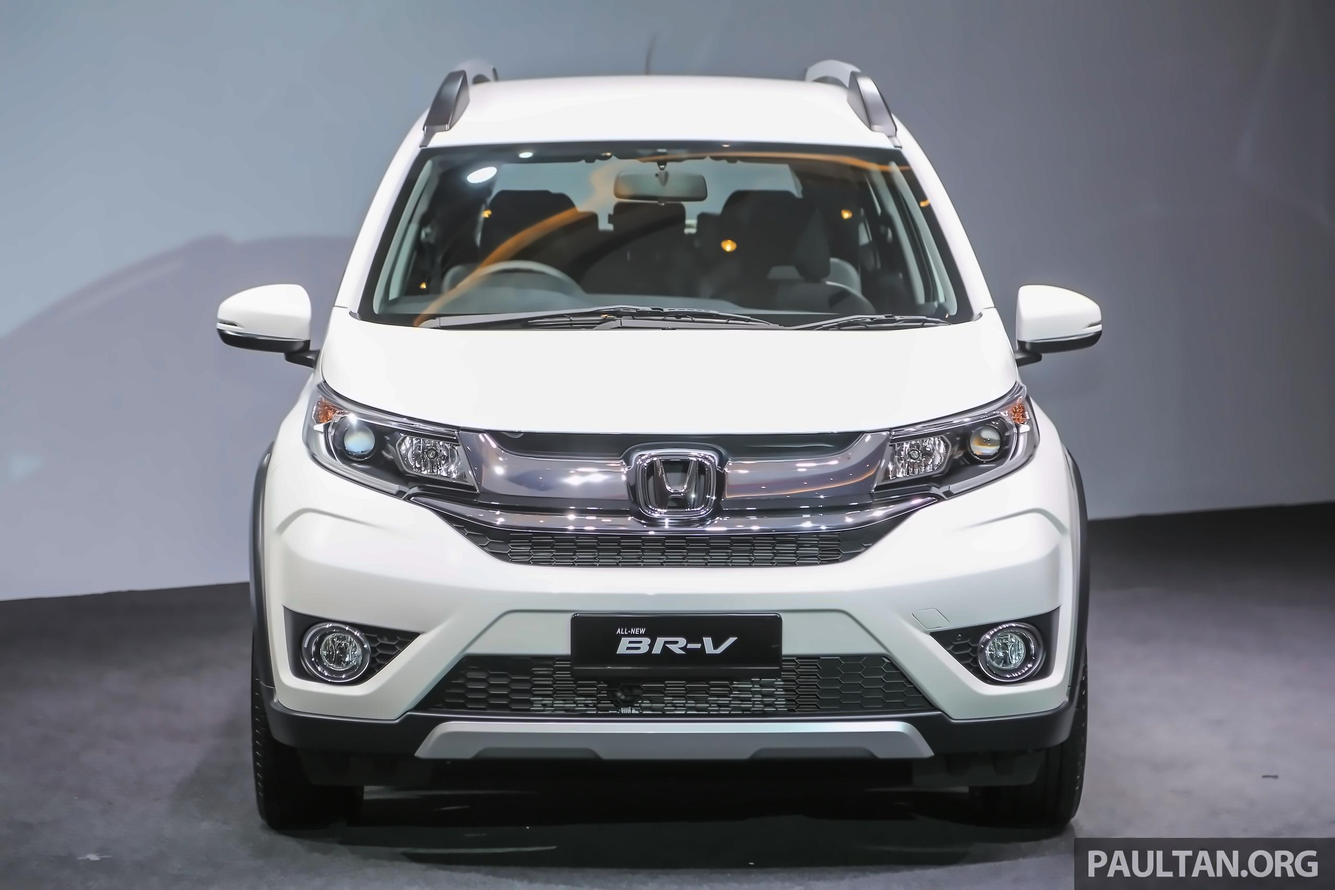Car hood: (317, 303, 1030, 444)
Front bumper: (244, 473, 1075, 792)
Headlight - -L-: (868, 377, 1044, 500)
Headlight - -R-: (296, 376, 488, 509)
Side mirror - -L-: (1012, 280, 1105, 362)
Side mirror - -R-: (211, 280, 325, 356)
